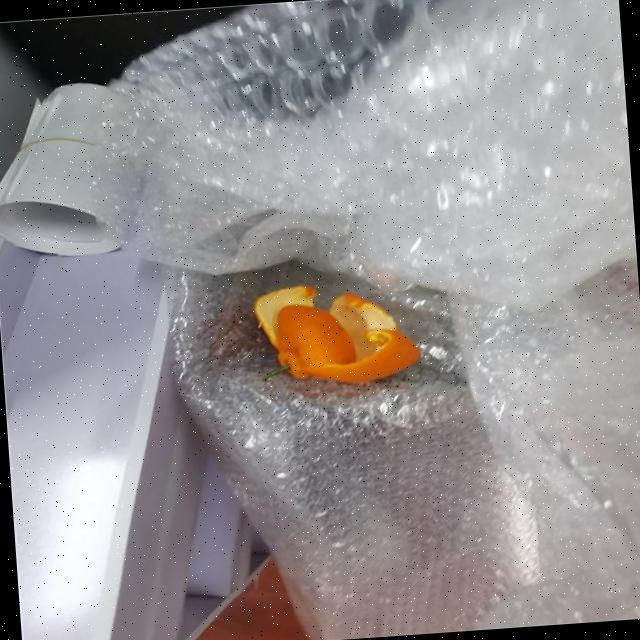orange-peel: (250, 274, 422, 392)
